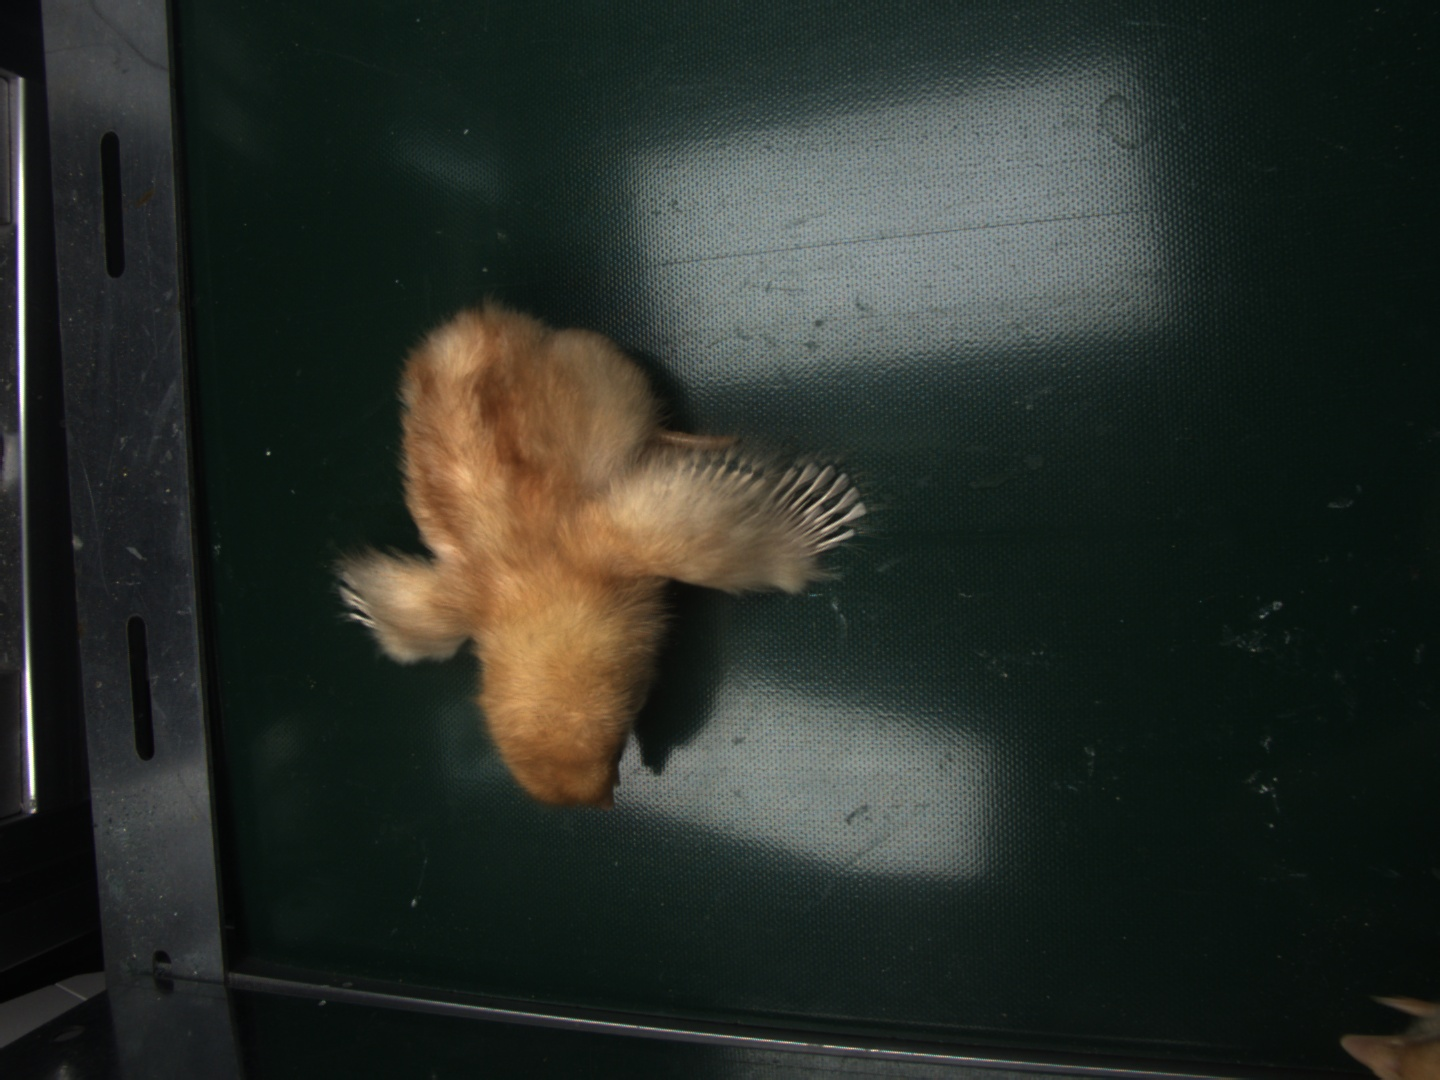female: (766, 458, 869, 554)
